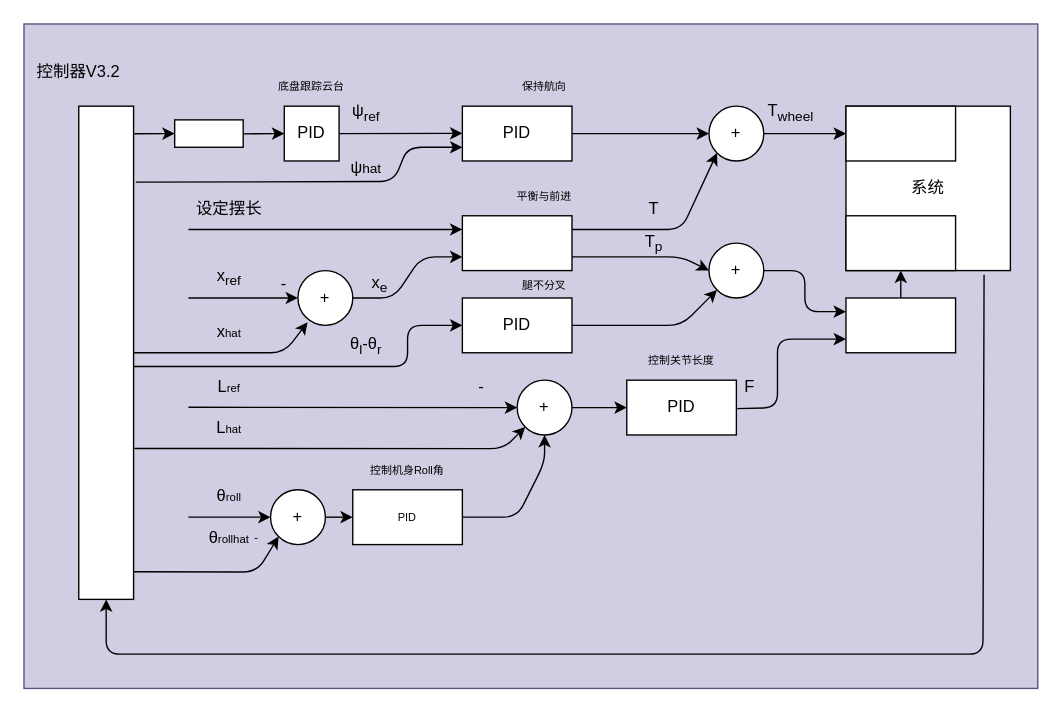
Image size: 1062x712. Some labels were removed from this diagram. The shapes that lost their labels are listed below. From the top down, each one's centre as x and y in pixels, then its label:
At point 208,133: "底盘辨向".
At point 900,133: "输出至轮电机".
At point 516,242: "-K(L)x e".
At point 900,242: "输出至关节".
At point 900,325: "VMC".
At point 105,352: "观测器".
